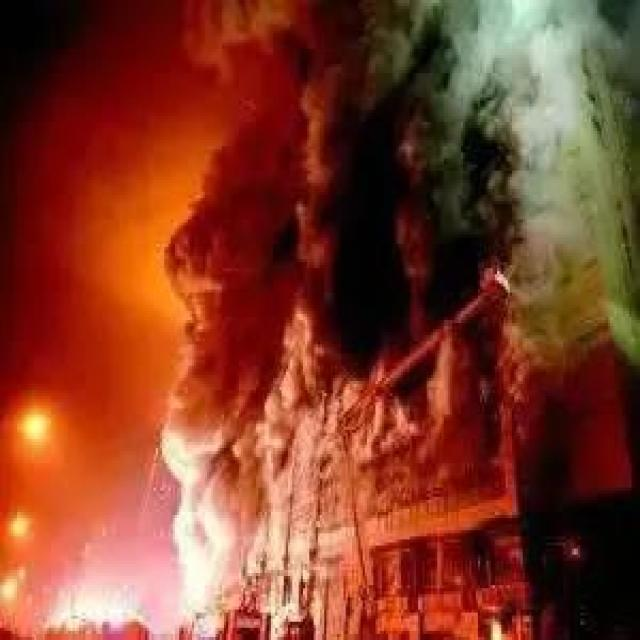smoke: (166, 1, 533, 357)
